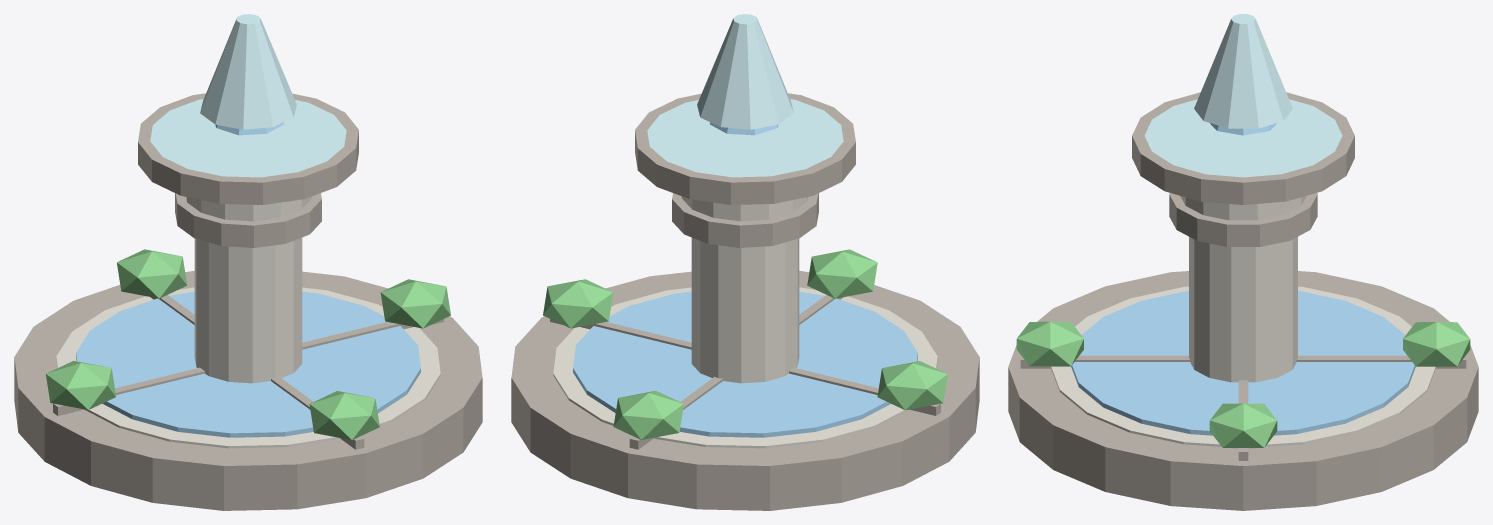
Rendered from fountain.glb.
3 views of the same model, side by side, from view 1: azimuth 30°, elevation 25°; view 2: azimuth 150°, elevation 25°; view 3: azimuth 270°, elevation 25° (orthographic).
Visible parts, largest first — view 1: fountain_root; view 2: fountain_root; view 3: fountain_root.
Boxes of the visible parts, box(x1,y1,x2,y2) form: fountain_root: box(14, 14, 482, 510); fountain_root: box(511, 14, 979, 510); fountain_root: box(1008, 14, 1478, 510).
Bounding box in the file's own units: 2.61 × 2.4 × 2.61.
